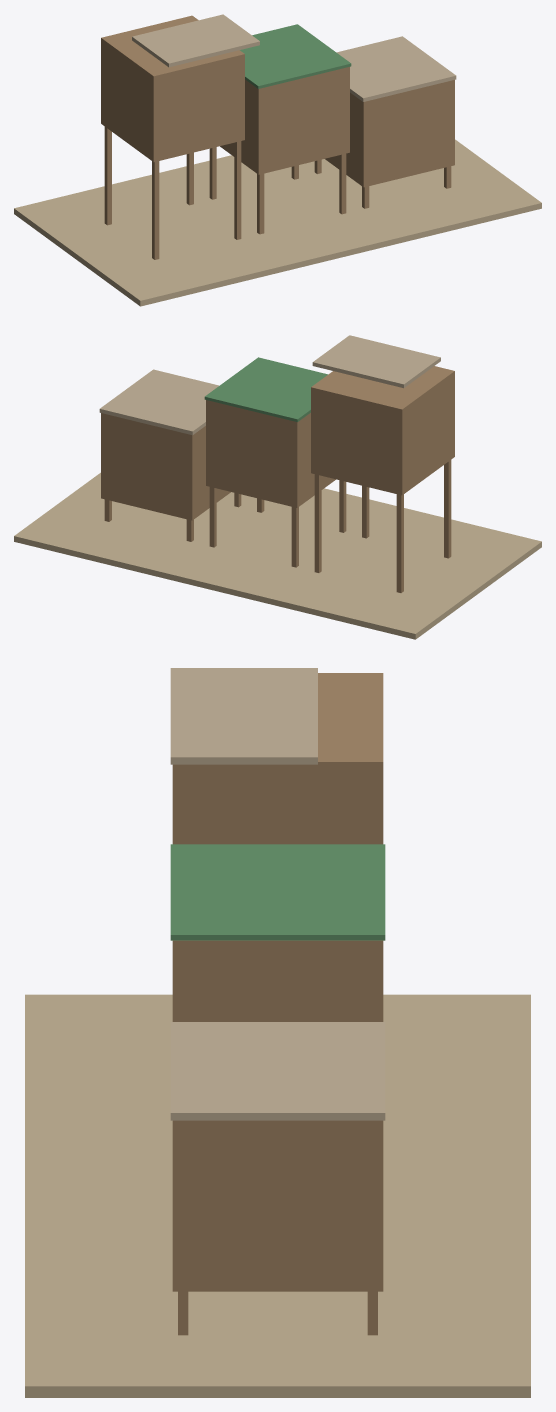
Rendered from cacao_estacion_02_fermentacion_cajones.glb.
The picture shows the model from 3 angles, top to bottom: view 1: azimuth 30°, elevation 25°; view 2: azimuth 150°, elevation 25°; view 3: azimuth 270°, elevation 25°; orthographic projection. The views are drawn at different scales.
Visible parts, largest first — view 1: model; view 2: model; view 3: model.
Boxes of the visible parts, x1,y1,x2,y2 form: model: (14, 14, 541, 306); model: (14, 335, 541, 639); model: (25, 668, 530, 1397).
Bounding box in the file's own units: 4.4 × 2.1 × 2.4.
